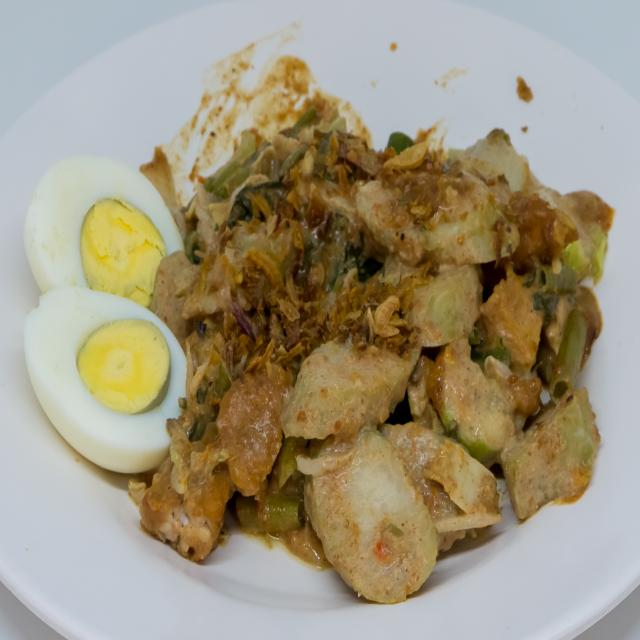Gado-Gado: (11, 16, 622, 616)
